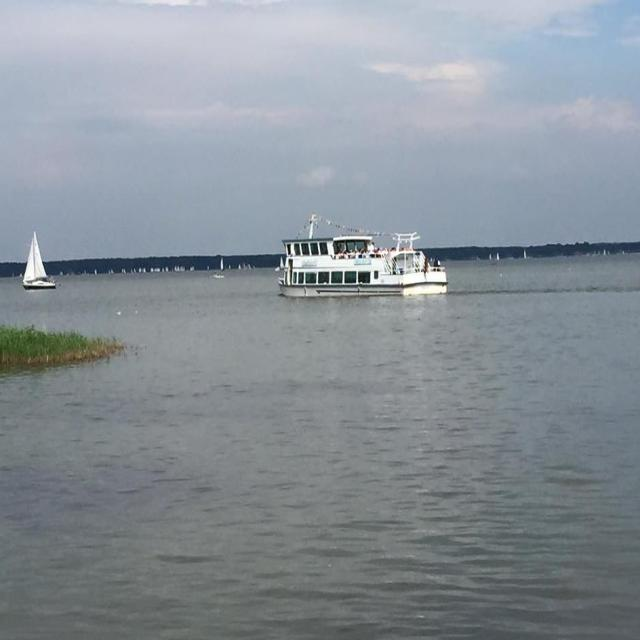houseboat: (270, 214, 444, 302)
sailboat: (23, 222, 66, 301)
